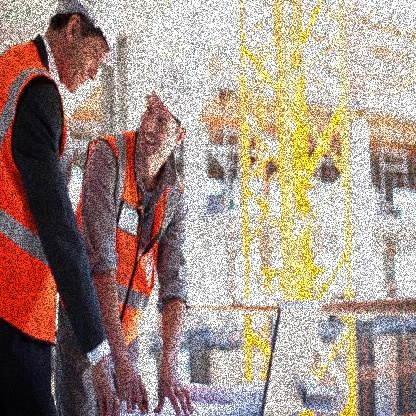vest: (75, 127, 193, 366), (1, 35, 71, 343)
white: (142, 57, 207, 133)
